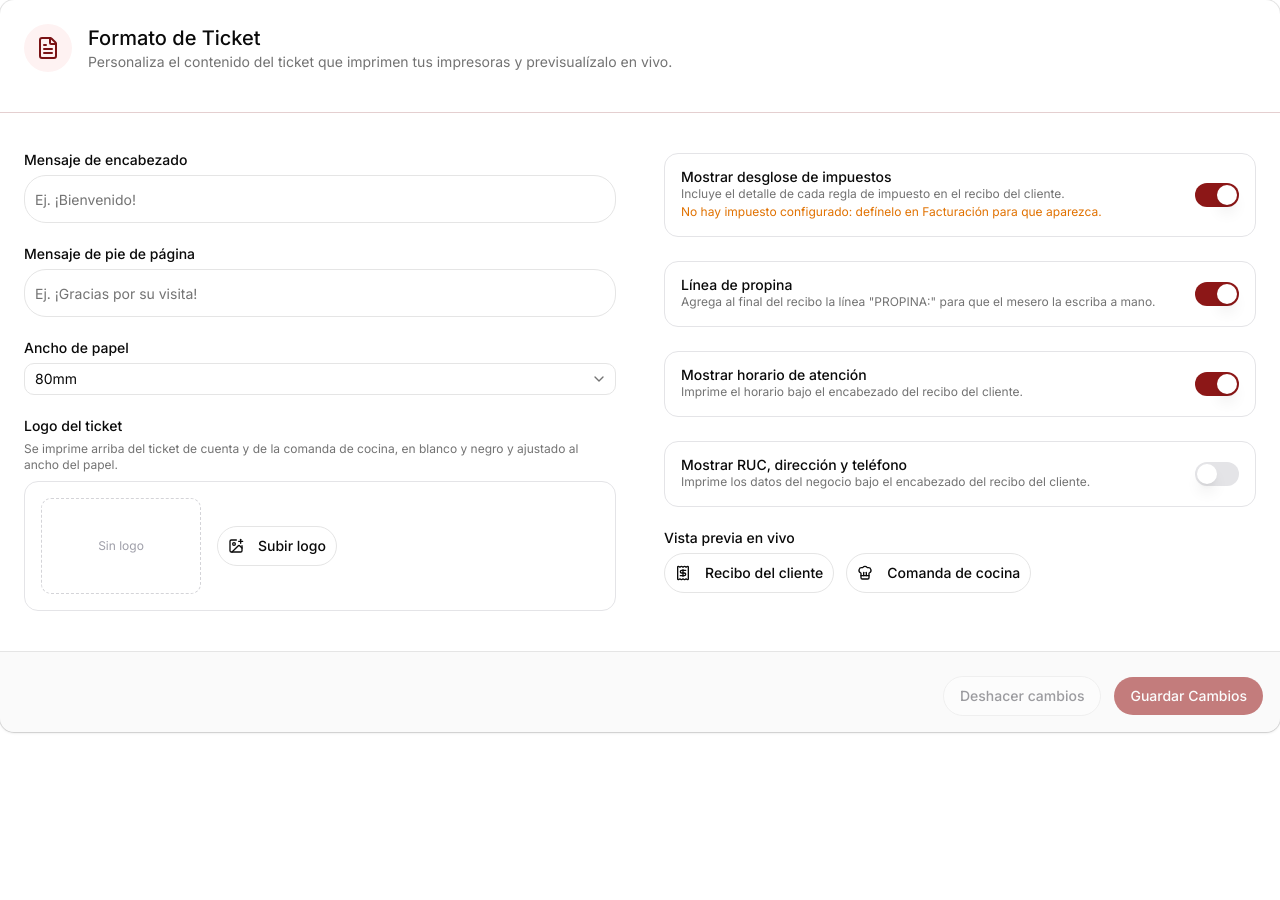
Scenario: TicketSettings business info in the receipt preview › switching the info toggle on adds RUC, address and phone to the preview
Click the switch named "Mostrar RUC, dirección y teléfono" in the row of "Mostrar RUC, dirección y teléfono" at (1217, 474), box [1195,462,1239,486]
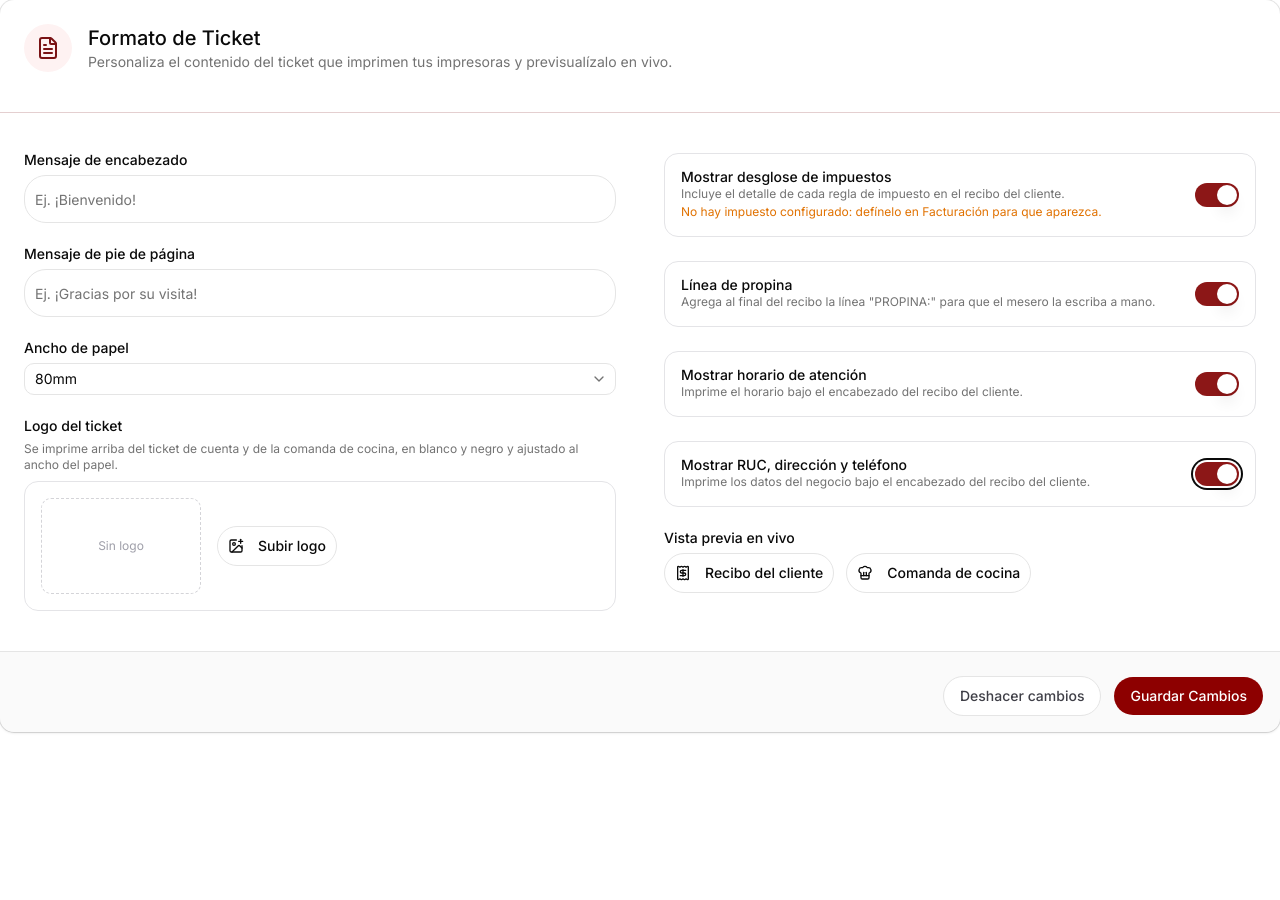
Click the button "Recibo del cliente" at (749, 573), box [664,553,834,593]
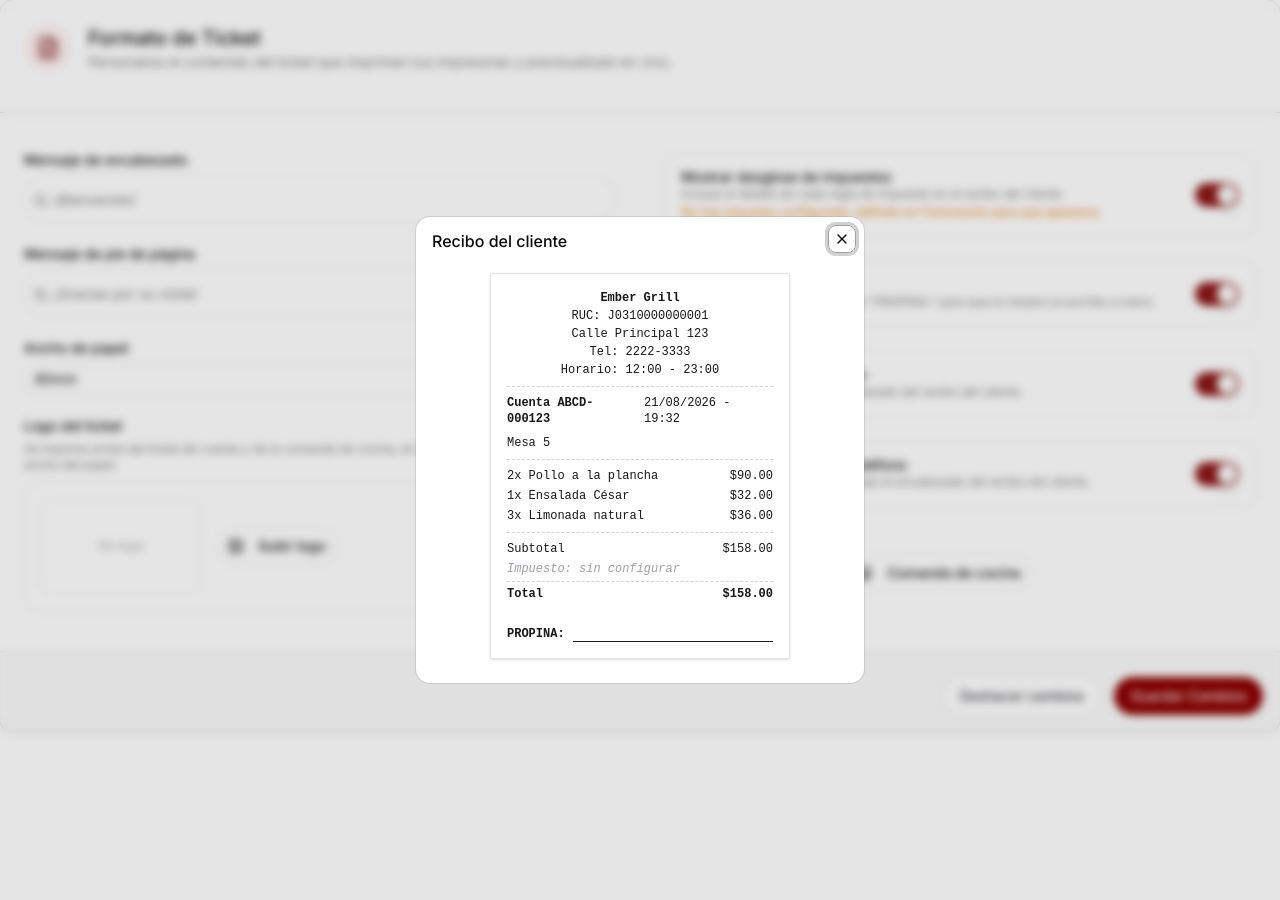
Expected: the text "RUC: J0310000000001" is shown, [572,309,708,323]
Expected: the text "Calle Principal 123" is shown, [572,327,708,341]
Expected: the text "Tel: 2222-3333" is shown, [590,345,690,359]
